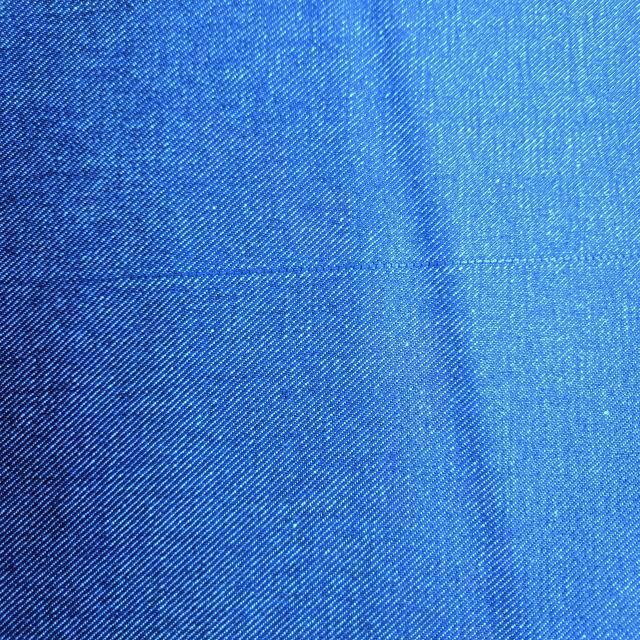Line: (0, 249, 639, 288)
